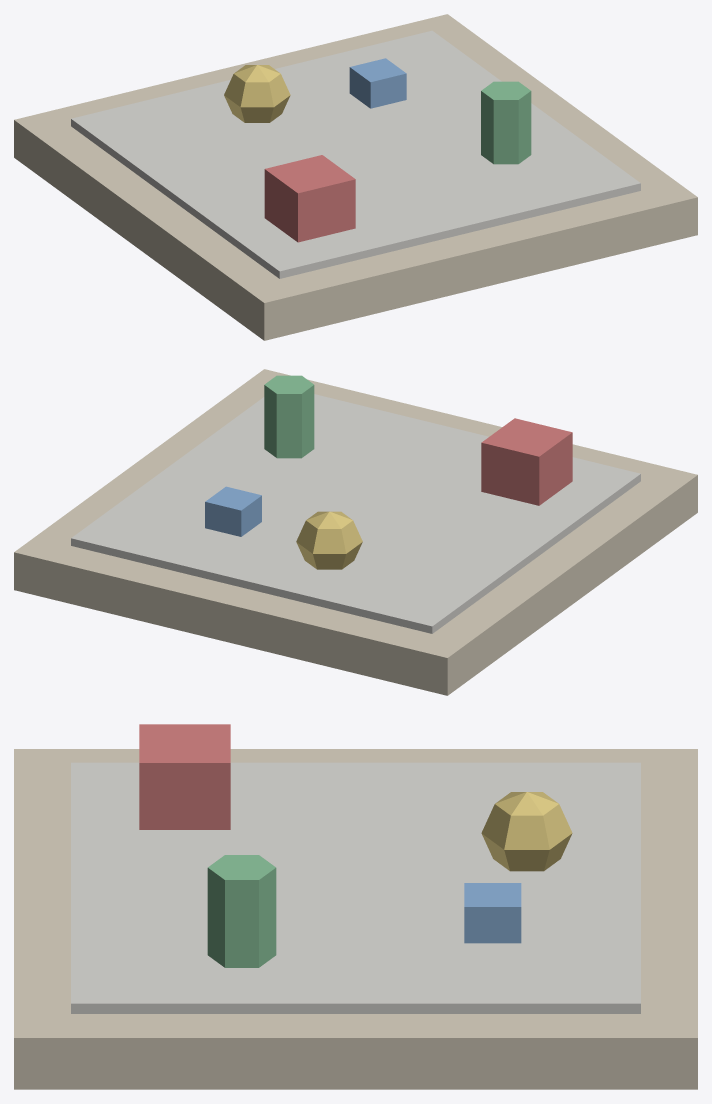
Rendered from kid_jogo_tabuleiro.glb.
3 views of the same model, one above another, from view 1: azimuth 30°, elevation 25°; view 2: azimuth 150°, elevation 25°; view 3: azimuth 270°, elevation 25° (orthographic). The views are drawn at different scales.
Parts seen in each view (by area): view 1: KID_JOGO_TABULEIRO_v01; view 2: KID_JOGO_TABULEIRO_v01; view 3: KID_JOGO_TABULEIRO_v01.
Boxes of the visible parts, <box> form: KID_JOGO_TABULEIRO_v01: <box>14,14,697,340</box>; KID_JOGO_TABULEIRO_v01: <box>14,369,697,695</box>; KID_JOGO_TABULEIRO_v01: <box>14,724,697,1089</box>.
Size of the model in its own units: 0.6 by 0.145 by 0.6.
